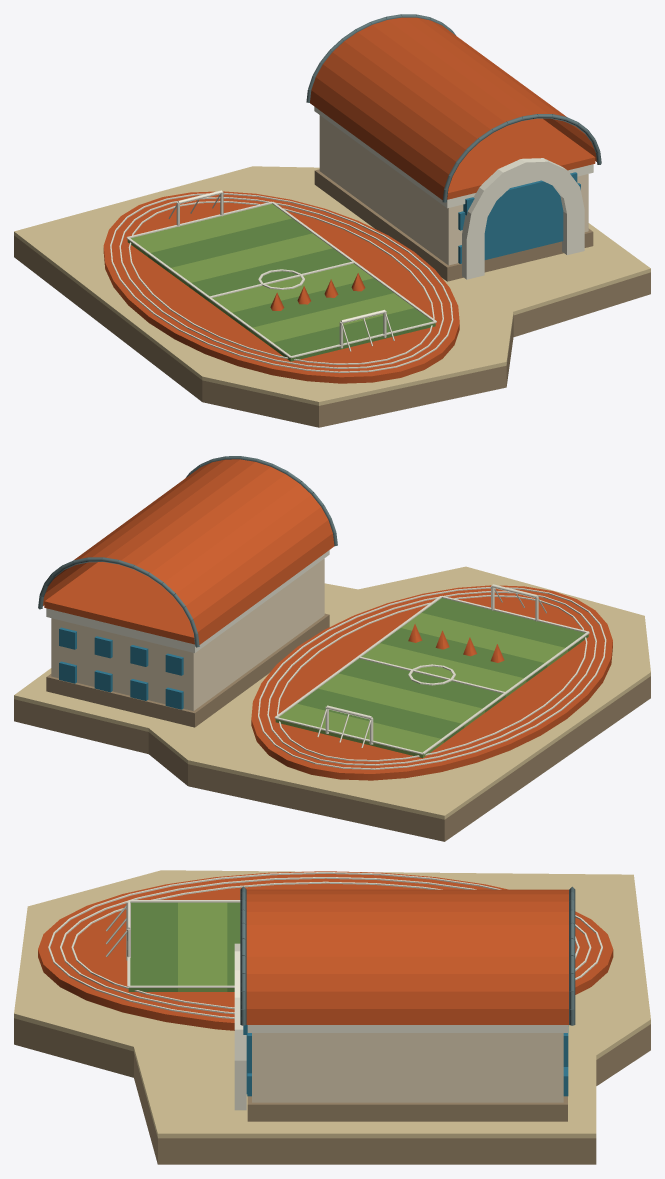
Rendered from training-center-lv1.glb.
3 renders of one model, top to bottom at view 1: azimuth 30°, elevation 25°; view 2: azimuth 150°, elevation 25°; view 3: azimuth 270°, elevation 25°, orthographic. The views are drawn at different scales.
Visible parts, largest first — view 1: foundation_sand, gym_barrel_roof_orange, running_track_orange, foundation_stoneDark, pitch_grassLight, pitch_grass, training_hall_cream, gym_front_arch_white, running_lanes_white, training_hall_roof_orange, gym_front_glass, training_hall_stoneDark (+5 smaller); view 2: foundation_sand, gym_barrel_roof_orange, running_track_orange, foundation_stoneDark, training_hall_cream, pitch_grassLight, pitch_grass, training_hall_roof_orange, running_lanes_white, training_hall_stoneDark, training_hall_windows_glass, pitch_lines_white (+4 smaller); view 3: gym_barrel_roof_orange, foundation_sand, training_hall_cream, foundation_stoneDark, running_track_orange, training_hall_stoneDark, running_lanes_white, pitch_grass, pitch_grassLight, training_hall_white, gym_barrel_roof_ribs_iron, gym_front_arch_white (+3 smaller).
Boxes of the visible parts, x1,y1,x2,y2 form: foundation_sand: [14, 166, 650, 405]; gym_barrel_roof_orange: [310, 17, 596, 199]; running_track_orange: [103, 191, 459, 383]; foundation_stoneDark: [14, 235, 650, 427]; pitch_grassLight: [127, 204, 413, 346]; pitch_grass: [148, 218, 435, 361]; training_hall_cream: [319, 115, 588, 265]; gym_front_arch_white: [462, 158, 584, 279]; running_lanes_white: [110, 193, 453, 372]; training_hall_roof_orange: [447, 118, 595, 199]; gym_front_glass: [463, 172, 577, 259]; training_hall_stoneDark: [314, 169, 593, 281]; foundation_sand: [14, 566, 650, 819]; gym_barrel_roof_orange: [43, 459, 334, 644]; running_track_orange: [251, 585, 612, 780]; foundation_stoneDark: [14, 676, 650, 841]; training_hall_cream: [51, 558, 324, 710]; pitch_grassLight: [275, 613, 567, 758]; pitch_grass: [297, 598, 588, 742]; training_hall_roof_orange: [44, 562, 194, 644]; running_lanes_white: [258, 587, 606, 769]; training_hall_stoneDark: [46, 613, 329, 727]; training_hall_windows_glass: [59, 627, 183, 709]; pitch_lines_white: [274, 595, 589, 754]; gym_barrel_roof_orange: [246, 889, 568, 1024]; foundation_sand: [14, 870, 650, 1138]; training_hall_cream: [252, 1033, 563, 1102]; foundation_stoneDark: [14, 1018, 650, 1164]; running_track_orange: [38, 871, 613, 1030]; training_hall_stoneDark: [247, 1096, 567, 1121]; running_lanes_white: [48, 872, 602, 1018]; pitch_grass: [128, 902, 240, 991]; pitch_grassLight: [178, 902, 227, 991]; training_hall_white: [247, 1025, 567, 1032]; gym_barrel_roof_ribs_iron: [240, 886, 575, 1025]; gym_front_arch_white: [234, 943, 246, 1110].
Size of the model in its own units: 0.9785 by 0.365 by 1.
